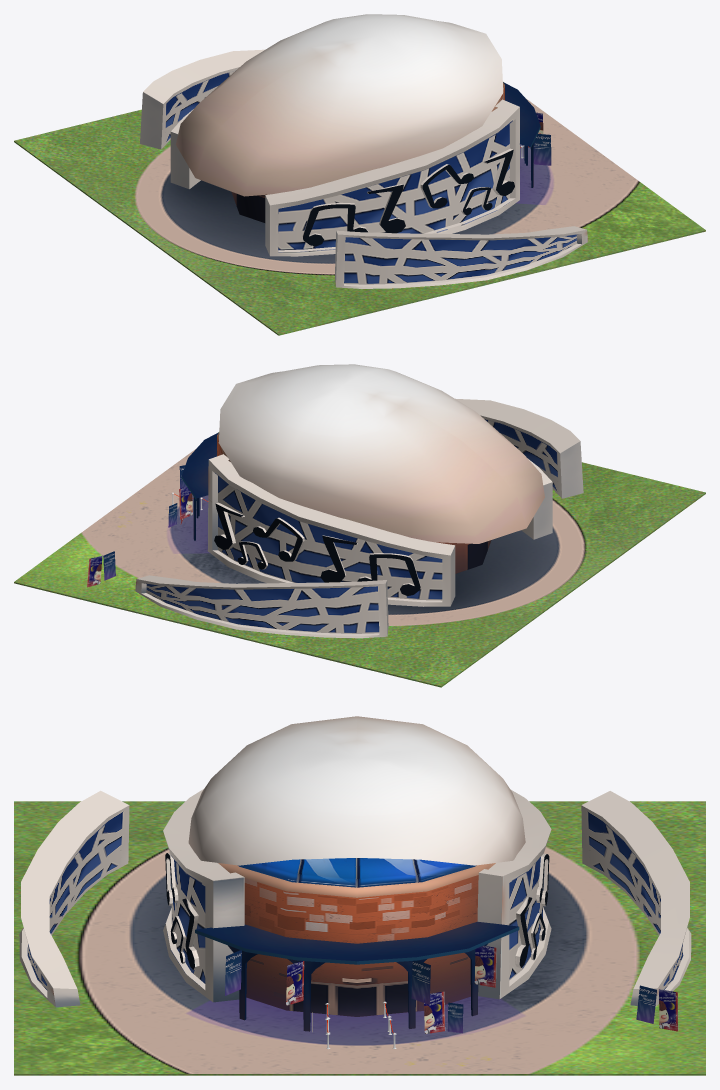
Rendered from Tx_Exterior_Business_MusicTheater_20170630.fbx.
3 views of the same model, one above another, from view 1: azimuth 30°, elevation 25°; view 2: azimuth 150°, elevation 25°; view 3: azimuth 270°, elevation 25° (orthographic). The views are drawn at different scales.
Parts seen in each view (by area): view 1: landscipe, pSphere3, polySurface1 (×2), polySurface16, polySurface10, pCube6, polySurface8, pCylinder1, polySurface9, polySurface4, polySurface6, pPlane3; view 2: landscipe, pSphere3, polySurface1 (×2), polySurface10, polySurface16, pCube6, pCylinder1, polySurface8, polySurface9, polySurface4, polySurface6; view 3: landscipe, pSphere3, pCylinder1, polySurface1 (×2), polySurface16, polySurface10, pCube6, pPlane1 (×4), polySurface6 (×2), pPlane2, pPlane4, pCube9 (+2 smaller).
Part boxes in pixels (x1,y1,x2,y2): landscipe: [14, 98, 705, 335]; pSphere3: [176, 14, 503, 196]; polySurface1 (×2): [170, 99, 519, 256]; polySurface16: [335, 226, 588, 288]; polySurface10: [140, 49, 264, 149]; pCube6: [503, 82, 540, 148]; polySurface8: [302, 203, 368, 246]; pCylinder1: [231, 82, 504, 222]; polySurface9: [367, 184, 405, 233]; polySurface4: [420, 164, 473, 208]; polySurface6: [483, 148, 514, 195]; pPlane3: [533, 134, 551, 165]; landscipe: [14, 432, 705, 687]; pSphere3: [218, 364, 544, 543]; polySurface1 (×2): [207, 454, 552, 606]; polySurface10: [135, 575, 388, 638]; polySurface16: [455, 398, 583, 498]; pCube6: [181, 432, 218, 500]; pCylinder1: [217, 432, 491, 573]; polySurface8: [357, 553, 420, 595]; polySurface9: [320, 535, 357, 582]; polySurface4: [253, 517, 304, 561]; polySurface6: [214, 502, 244, 549]; landscipe: [14, 801, 705, 1075]; pSphere3: [188, 716, 525, 865]; pCylinder1: [218, 858, 495, 1016]; polySurface1 (×2): [163, 789, 551, 1002]; polySurface16: [19, 790, 129, 1007]; polySurface10: [581, 791, 691, 1006]; pCube6: [195, 921, 519, 964]; pPlane1 (×4): [286, 961, 678, 1033]; polySurface6 (×2): [182, 897, 532, 969]; pPlane2: [474, 945, 496, 987]; pPlane4: [411, 960, 430, 1004]; pCube9: [287, 959, 324, 1031].
Size of the model in its own units: 180 by 62.34 by 193.
